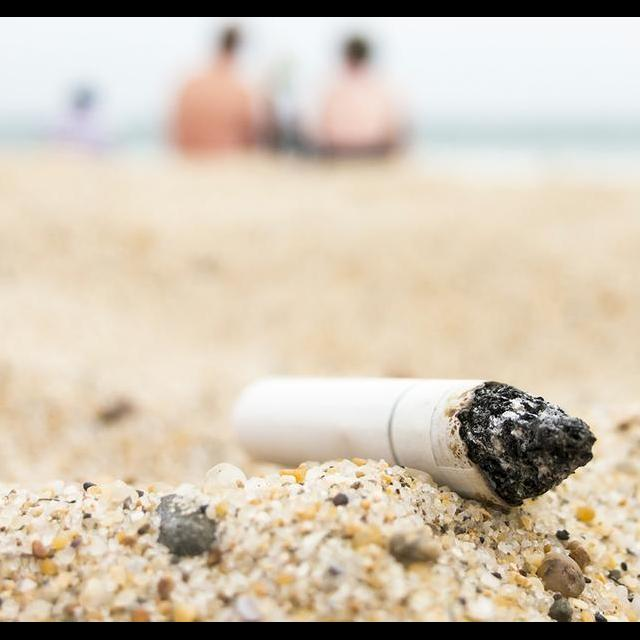Cigarette Butt: (227, 378, 600, 512)
